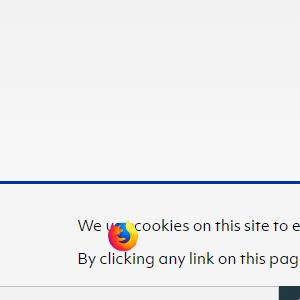firefox: (107, 220, 138, 252)
